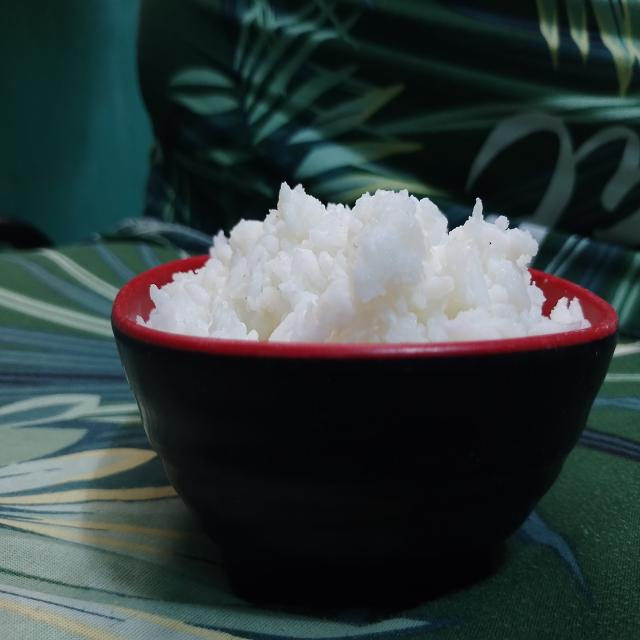Chicken -Chicken Inasal-: (142, 154, 584, 341)
